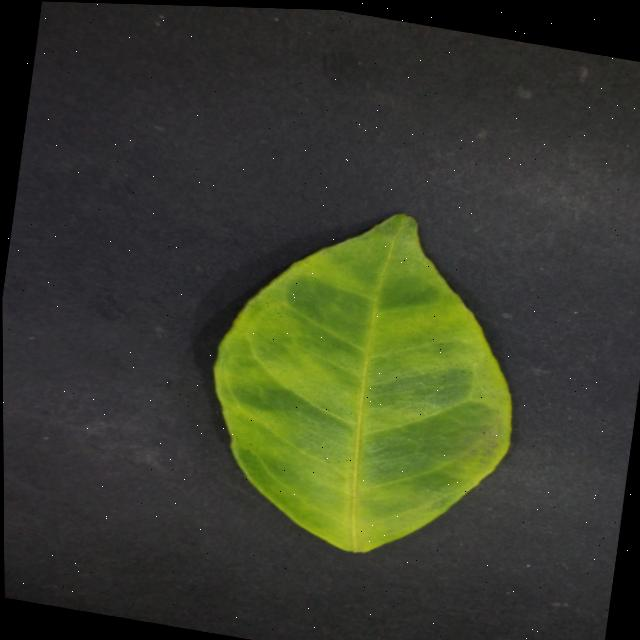greening: (216, 214, 511, 551)
